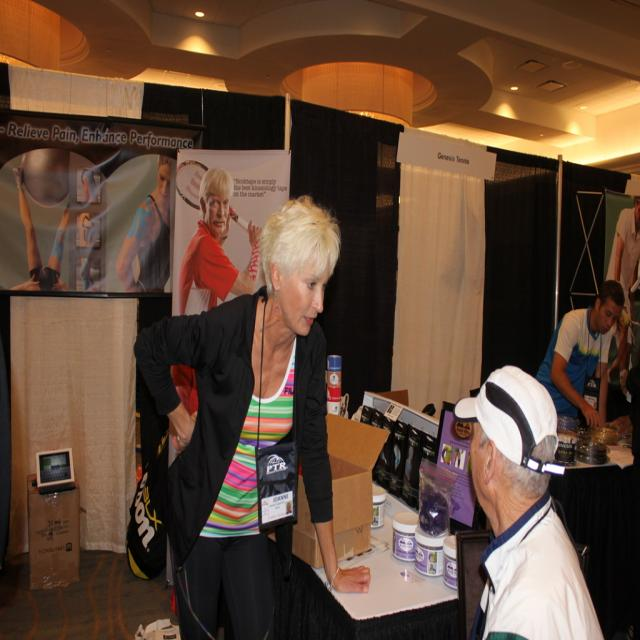desk: (303, 477, 458, 629)
person: (132, 191, 366, 637), (458, 365, 606, 636), (535, 280, 629, 428), (178, 166, 260, 314), (114, 154, 175, 294), (605, 196, 640, 412)
